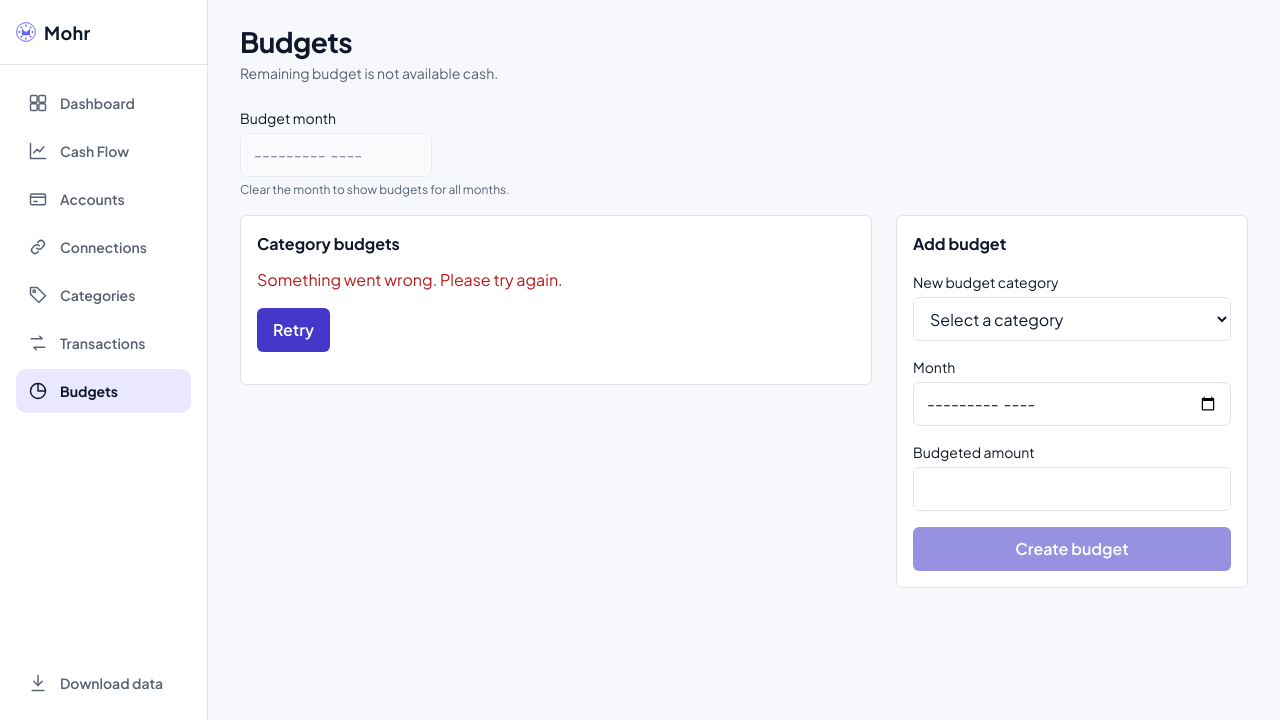
budgets list › shows a retryable error with a working Retry control
Expected: the message shows "Something went wrong. Please try again.", [257,269,563,290]
Expected: the field labelled "Budget month" is disabled, [240,133,432,177]
Click the button "Retry" at (294, 330), box [257,308,330,352]
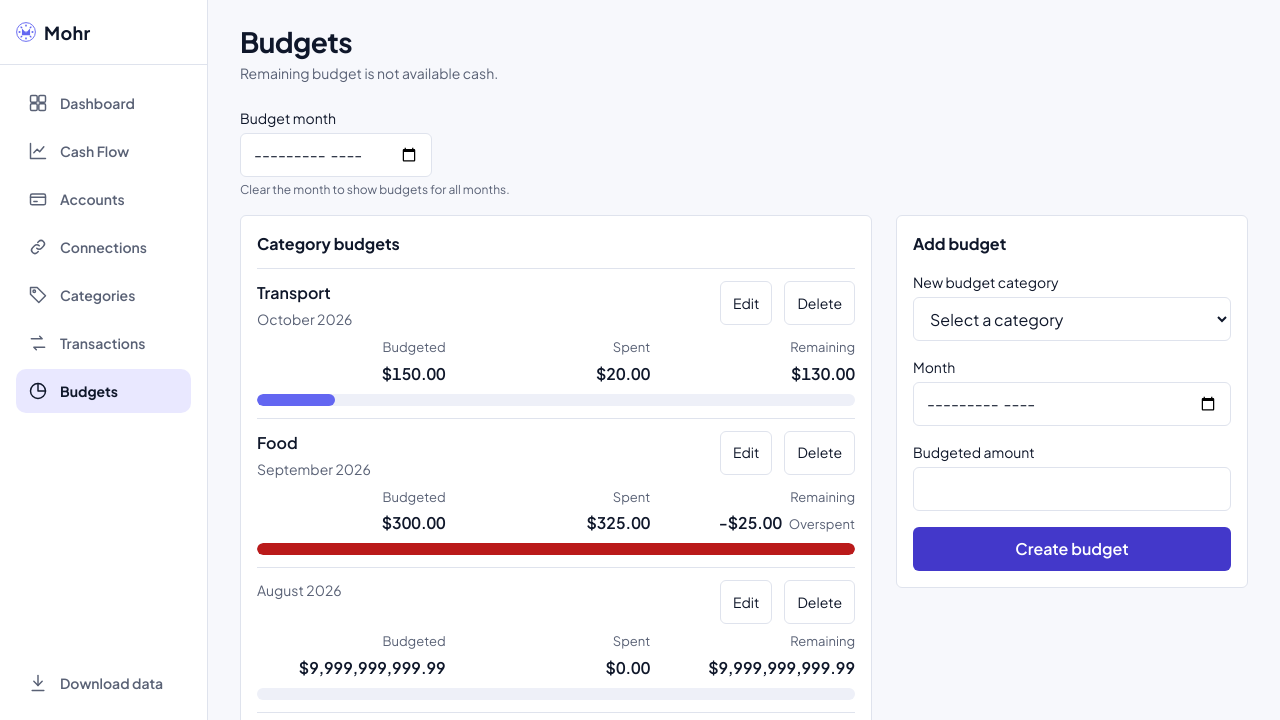
Expected: the text "October 2026" is shown, [257,310,352,328]
Expected: the message "Something went wrong. Please try again. Retry" is gone
Expected: the field labelled "Budget month" is enabled, [240,133,432,177]
